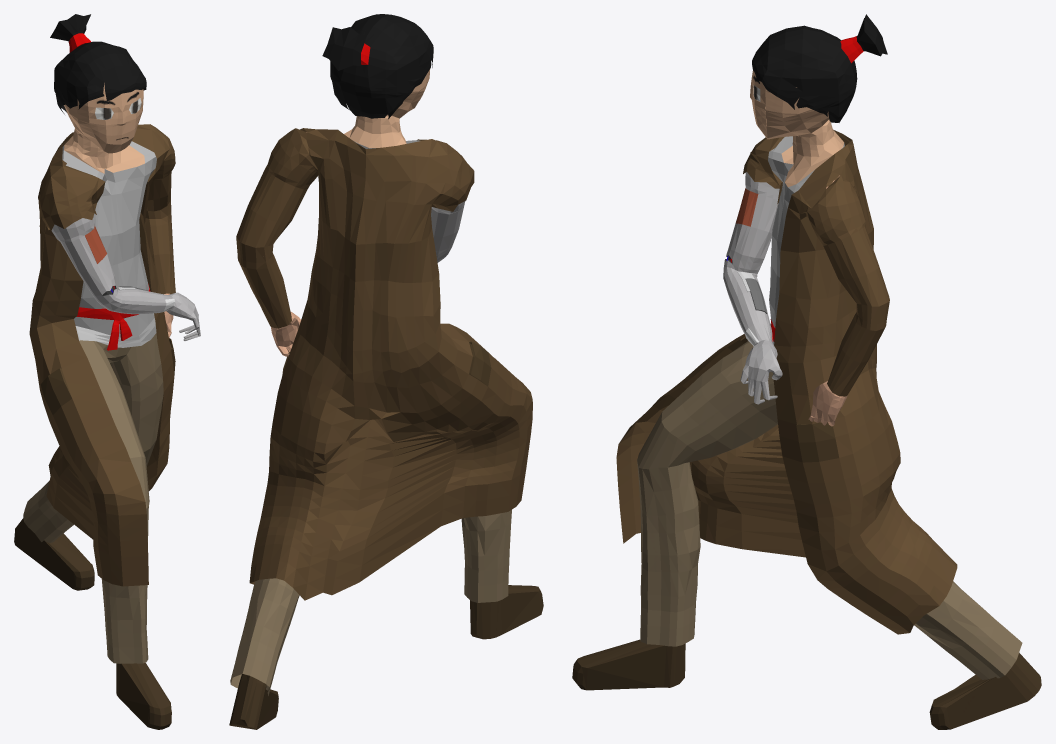
The model's file is One_DL_000011.obj.
3 renders of one model, left to right at view 1: azimuth 30°, elevation 25°; view 2: azimuth 150°, elevation 25°; view 3: azimuth 270°, elevation 25°, orthographic. The views are drawn at different scales.
Parts seen in each view (by area): view 1: Hair_Cube.004; view 2: Hair_Cube.004; view 3: Hair_Cube.004.
Boxes of the visible parts, bbox=[...] form: Hair_Cube.004: bbox=[14, 14, 200, 729]; Hair_Cube.004: bbox=[229, 14, 543, 729]; Hair_Cube.004: bbox=[572, 14, 1041, 729].
Size of the model in its own units: 1.09 by 3.68 by 2.27.
